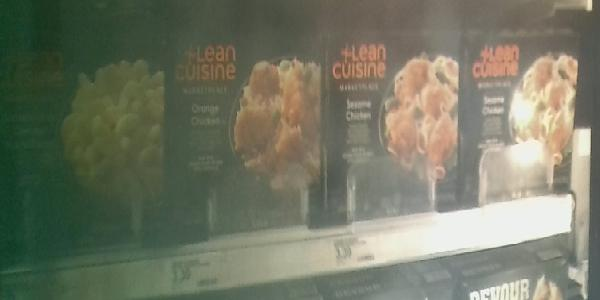pizza1: (170, 34, 324, 251), (16, 39, 163, 261), (328, 22, 460, 229), (462, 23, 577, 213)
